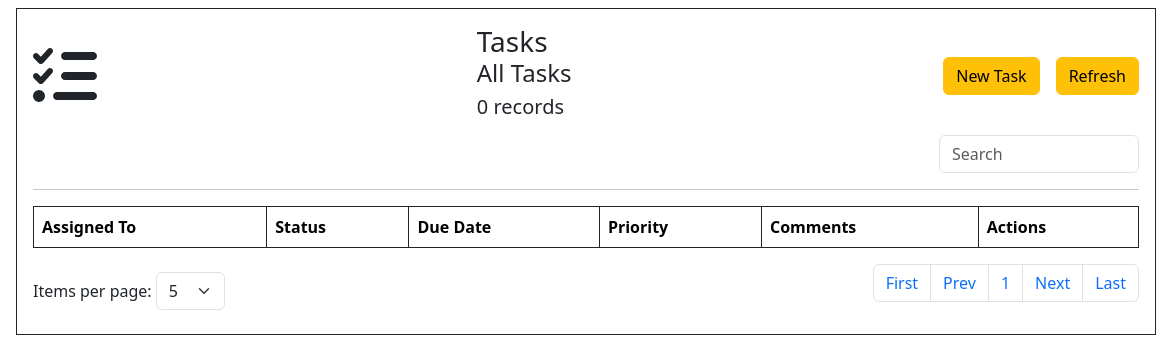
TaskManager Pagination and Refresh Tests › changes page when "Next" is clicked
Expected: the text "1" is shown, [988, 264, 1023, 302]
What coordinates should you click on to do the following:
click the button "Next"
I would click on:
 (1053, 283)
Its box is [1022, 264, 1083, 302].
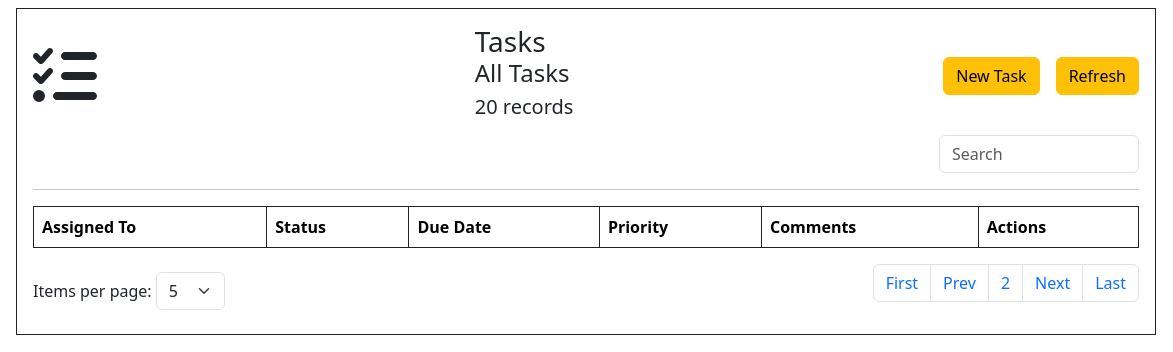
Now the text "2" is shown, box [988, 264, 1023, 302]
